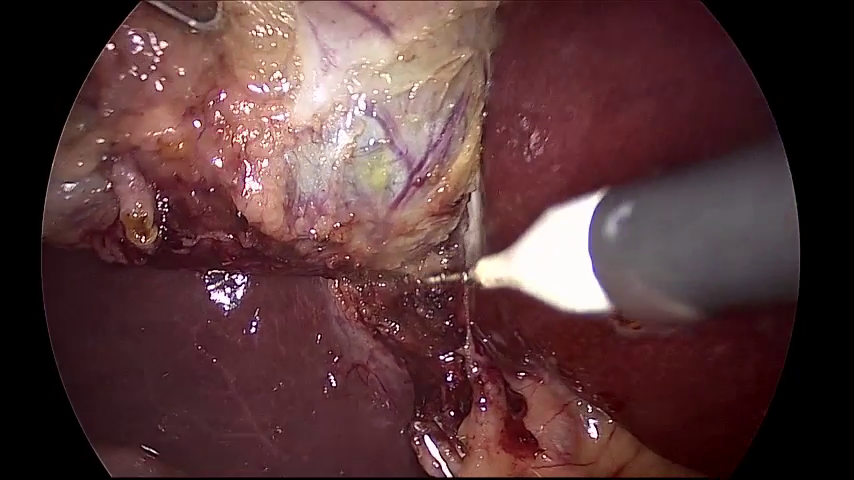grasper: (148, 1, 223, 26)
lhook: (426, 137, 800, 319)
